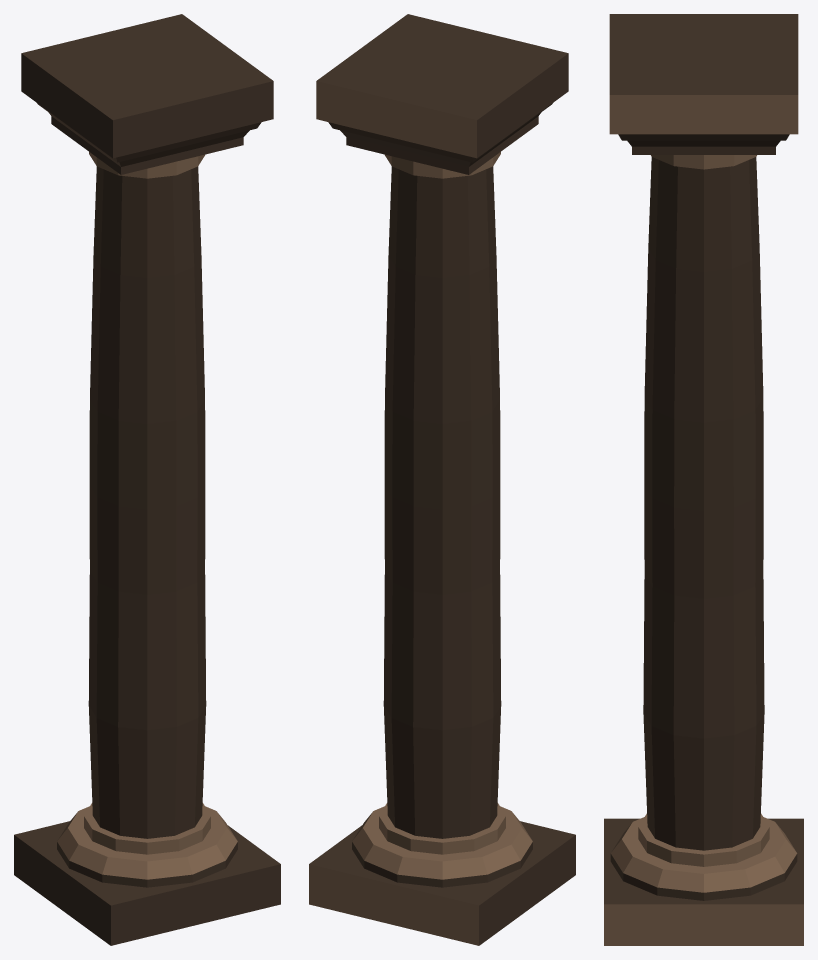
The model's file is SM_column_norse_01.fbx.
3 views of the same model, side by side, from view 1: azimuth 30°, elevation 25°; view 2: azimuth 150°, elevation 25°; view 3: azimuth 270°, elevation 25° (orthographic). The views are drawn at different scales.
Visible parts, largest first — view 1: Cylinder055; view 2: Cylinder055; view 3: Cylinder055.
Part boxes in pixels (<box>): Cylinder055: <box>14,14,280,945</box>; Cylinder055: <box>309,14,575,945</box>; Cylinder055: <box>604,14,803,945</box>.
Size of the model in its own units: 46.1 by 213 by 45.46.
